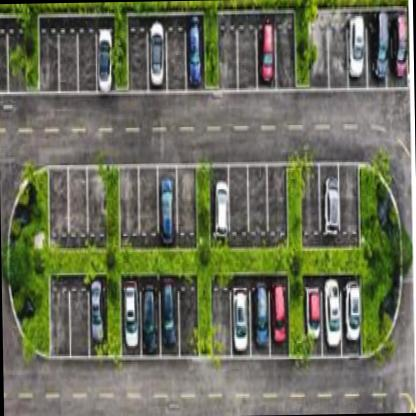Car: (344, 275, 362, 349), (346, 20, 366, 84), (207, 180, 226, 240), (320, 172, 338, 233), (301, 286, 319, 340), (188, 21, 204, 80), (94, 35, 113, 84), (326, 274, 340, 340), (142, 281, 156, 346), (235, 284, 248, 352), (123, 288, 137, 344), (259, 25, 273, 80), (162, 280, 174, 342), (372, 18, 385, 70), (392, 24, 406, 72), (254, 294, 269, 338), (152, 31, 164, 85), (160, 177, 171, 234), (276, 284, 286, 340)
Empty: (48, 179, 68, 237), (308, 26, 328, 70), (340, 180, 356, 230), (304, 182, 319, 233), (166, 41, 182, 86), (232, 169, 245, 223), (92, 183, 106, 230), (184, 282, 195, 340), (332, 24, 345, 73), (249, 180, 264, 222), (239, 35, 254, 76), (70, 184, 84, 226), (278, 28, 292, 69), (142, 178, 153, 230), (269, 179, 281, 224), (123, 181, 135, 225), (216, 287, 226, 339), (56, 297, 67, 344), (219, 35, 232, 73), (44, 43, 57, 80), (82, 38, 92, 80), (60, 44, 73, 76), (184, 182, 192, 232), (132, 40, 144, 72), (74, 296, 84, 334)
